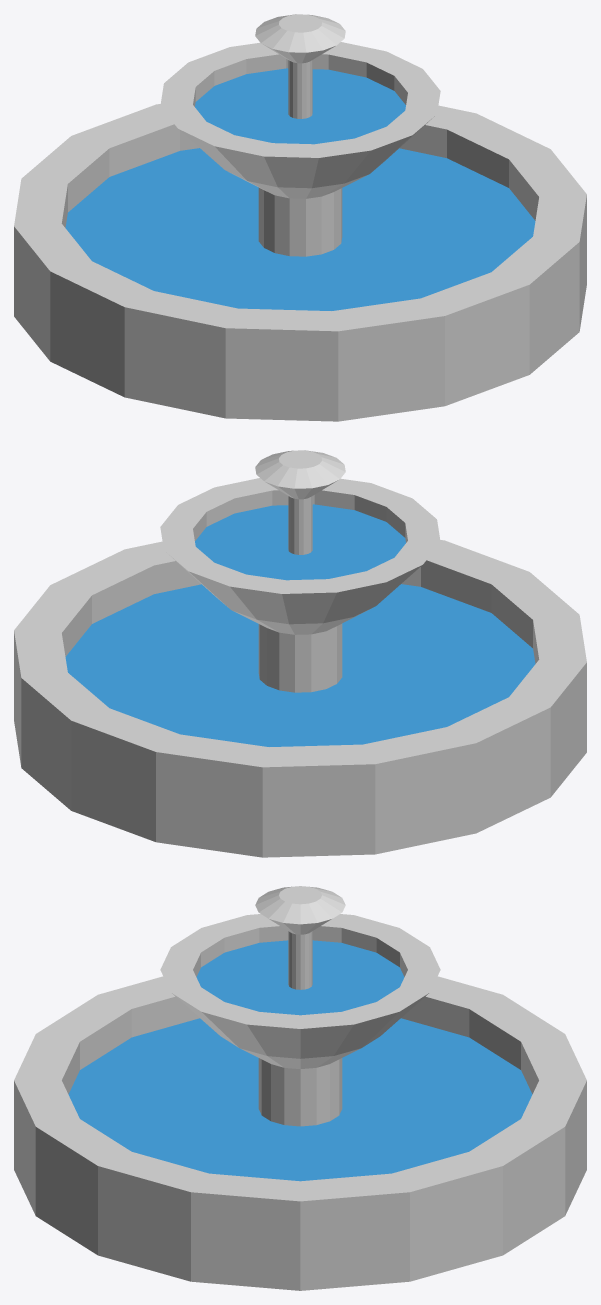
Rendered from Fuente.fbx.
The picture shows the model from 3 angles, top to bottom: view 1: azimuth 30°, elevation 25°; view 2: azimuth 150°, elevation 25°; view 3: azimuth 270°, elevation 25°; orthographic projection.
Visible parts, largest first — view 1: Fuente; view 2: Fuente; view 3: Fuente.
Part boxes in pixels (<box>): Fuente: <box>14,14,586,421</box>; Fuente: <box>14,450,586,857</box>; Fuente: <box>14,886,586,1290</box>.
Size of the model in its own units: 104 by 55.15 by 104.
